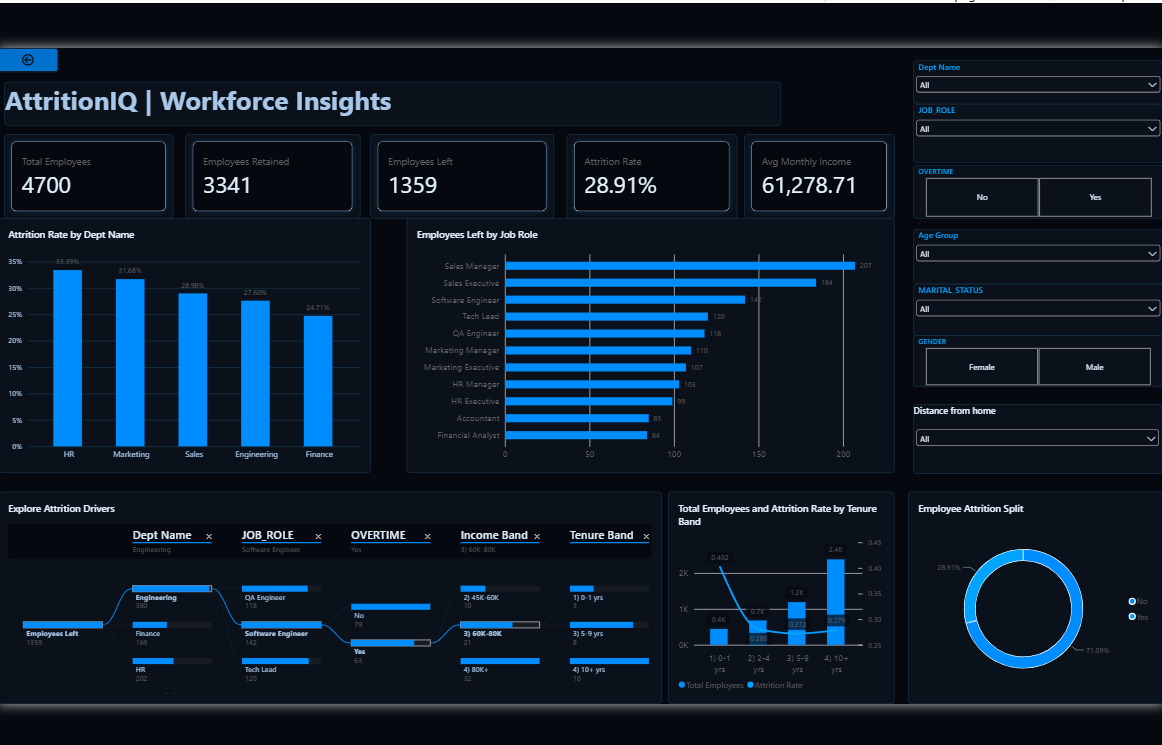

What the dashboard file says about the page in this screenshot:
{"tool":"powerbi","page":{"name":"Executive Overview","canvas":[1920,1080],"ordinal":0},"visuals":[{"type":"cardVisual","fields":{"Data":["_Measures.Total Employees"]},"box":[10.9,141.2,278.7,139.3],"z":0},{"type":"cardVisual","fields":{"Data":["_Measures.Employees Left"]},"box":[613.5,141.2,302.2,139.3],"z":1000},{"type":"cardVisual","fields":{"Data":["_Measures.Attrition Rate"]},"box":[935.6,141.2,280.5,139.3],"z":2000},{"type":"cardVisual","fields":{"Data":["_Measures.Employees Retained"]},"box":[309.5,141.2,287.7,139.3],"z":3000},{"type":"cardVisual","fields":{"Data":["HR_ATTRITION_FINAL.Avg Monthly Income"]},"box":[1228.8,141.2,247.9,139.3],"z":4000},{"type":"slicer","fields":{"Values":["HR_ATTRITION_FINAL.Dept Name"]},"box":[1507.4,19.9,412.6,72.4],"z":5000},{"type":"slicer","fields":{"Values":["HR_ATTRITION_FINAL.JOB_ROLE"]},"box":[1507.4,92.3,412.6,95.9],"z":6000},{"type":"slicer","fields":{"Values":["HR_ATTRITION_FINAL.OVERTIME"]},"box":[1507.4,193.6,412.6,86.9],"z":7000},{"type":"slicer","fields":{"Values":["HR_ATTRITION_FINAL.Age Group"]},"box":[1507.4,298.6,412.6,90.5],"z":8000},{"type":"slicer","fields":{"Values":["HR_ATTRITION_FINAL.MARITAL_STATUS"]},"box":[1507.4,389.1,412.6,85.1],"z":9000},{"type":"slicer","fields":{"Values":["HR_ATTRITION_FINAL.GENDER"]},"box":[1507.4,474.1,410.8,85.1],"z":10000},{"type":"actionButton","box":[0,0,99.5,39.8],"z":11000},{"type":"slicer","title":"Distance from home","fields":{"Values":["HR_ATTRITION_FINAL.Distance Band"]},"box":[1507.4,586.3,410.8,114],"z":12000},{"type":"clusteredColumnChart","fields":{"Category":["HR_ATTRITION_FINAL.Dept Name"],"Y":["_Measures.Attrition Rate"]},"box":[0,280.5,613.5,419.8],"z":13000},{"type":"donutChart","title":"Employee Attrition Split","fields":{"Category":["HR_ATTRITION_FINAL.ATTRITION"],"Y":["_Measures.Total Employees"]},"box":[1498.4,731.1,421.7,349.3],"z":14000},{"type":"clusteredBarChart","title":"Employees Left by Job Role","fields":{"Category":["HR_ATTRITION_FINAL.JOB_ROLE"],"Y":["_Measures.Employees Left"]},"box":[673.2,280.5,803.5,419.8],"z":15000},{"type":"lineClusteredColumnComboChart","fields":{"Category":["HR_ATTRITION_FINAL.Tenure Band"],"Y":["_Measures.Total Employees"],"Y2":["_Measures.Attrition Rate"]},"box":[1103.9,731.1,372.8,349.3],"z":16000},{"type":"decompositionTreeVisual","title":"Explore Attrition Drivers","fields":{"Analyze":["_Measures.Employees Left"],"ExplainBy":["HR_ATTRITION_FINAL.Dept Name","HR_ATTRITION_FINAL.JOB_ROLE","HR_ATTRITION_FINAL.OVERTIME","HR_ATTRITION_FINAL.Income Band","HR_ATTRITION_FINAL.Tenure Band"]},"box":[0,731.1,1093,349.3],"z":17000},{"type":"textbox","box":[10.9,56.1,1279.4,72.4],"z":18000}]}

Visuals, with their boxes on the page's 1920x1080 design canvas (x1, y1, x2, y2). These are canvas units, not pixel positions in the 1162x745 screenshot, which may show the page scaled, cropped or inside an application window:
cardVisual - _Measures.Total Employees: region(11, 141, 290, 280)
cardVisual - _Measures.Employees Left: region(614, 141, 916, 280)
cardVisual - _Measures.Attrition Rate: region(936, 141, 1216, 280)
cardVisual - _Measures.Employees Retained: region(310, 141, 597, 280)
cardVisual - HR_ATTRITION_FINAL.Avg Monthly Income: region(1229, 141, 1477, 280)
slicer - HR_ATTRITION_FINAL.Dept Name: region(1507, 20, 1920, 92)
slicer - HR_ATTRITION_FINAL.JOB_ROLE: region(1507, 92, 1920, 188)
slicer - HR_ATTRITION_FINAL.OVERTIME: region(1507, 194, 1920, 280)
slicer - HR_ATTRITION_FINAL.Age Group: region(1507, 299, 1920, 389)
slicer - HR_ATTRITION_FINAL.MARITAL_STATUS: region(1507, 389, 1920, 474)
slicer - HR_ATTRITION_FINAL.GENDER: region(1507, 474, 1918, 559)
actionButton: region(0, 0, 100, 40)
"Distance from home" slicer: region(1507, 586, 1918, 700)
clusteredColumnChart - HR_ATTRITION_FINAL.Dept Name x _Measures.Attrition Rate: region(0, 280, 614, 700)
"Employee Attrition Split" donutChart: region(1498, 731, 1920, 1080)
"Employees Left by Job Role" clusteredBarChart: region(673, 280, 1477, 700)
lineClusteredColumnComboChart - HR_ATTRITION_FINAL.Tenure Band x _Measures.Total Employees: region(1104, 731, 1477, 1080)
"Explore Attrition Drivers" decompositionTreeVisual: region(0, 731, 1093, 1080)
textbox: region(11, 56, 1290, 128)
